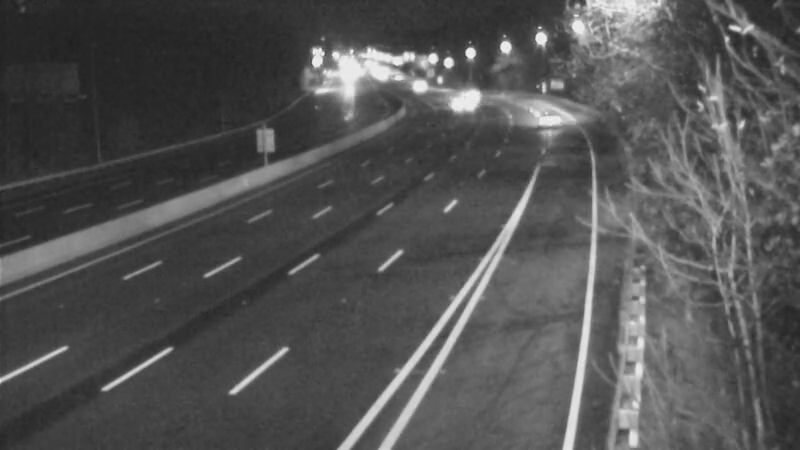vehicle: (392, 59, 442, 109), (447, 68, 497, 118), (433, 72, 483, 122), (521, 91, 571, 141)
